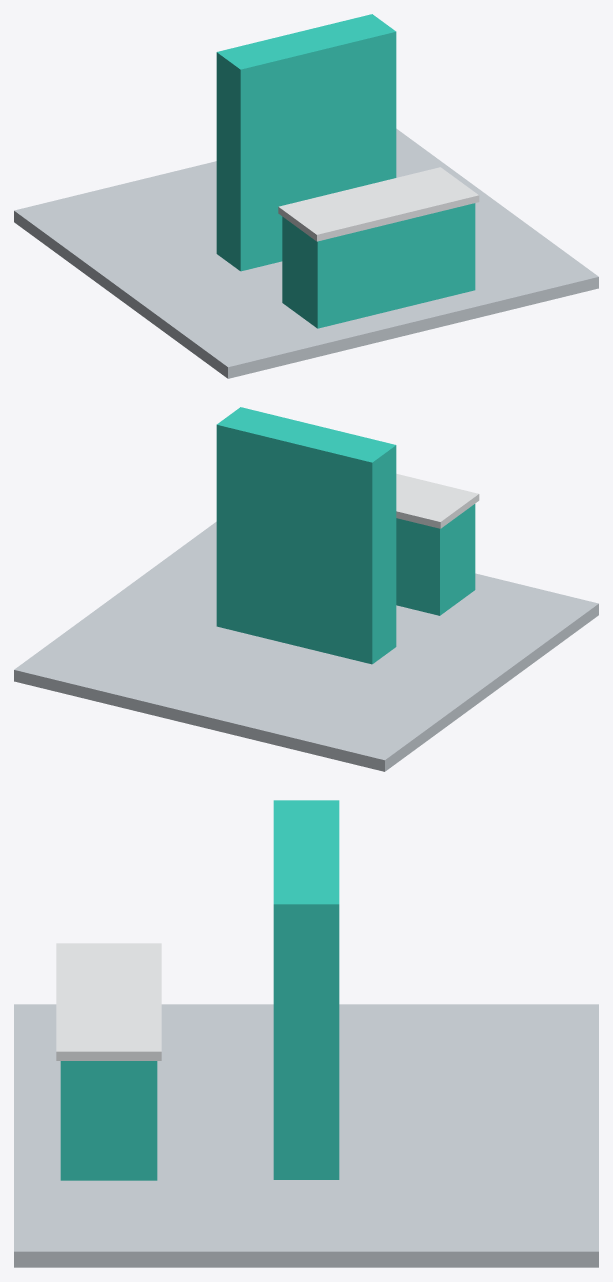
3 renders of one model, top to bottom at view 1: azimuth 30°, elevation 25°; view 2: azimuth 150°, elevation 25°; view 3: azimuth 270°, elevation 25°, orthographic. The views are drawn at different scales.
Visible parts, largest first — view 1: Exhibition Booth Concept; view 2: Exhibition Booth Concept; view 3: Exhibition Booth Concept.
Boxes of the visible parts, left/top/right/bottom form: Exhibition Booth Concept: left=14, top=14, right=598, bottom=378; Exhibition Booth Concept: left=14, top=407, right=598, bottom=771; Exhibition Booth Concept: left=14, top=800, right=598, bottom=1267.
Bounding box in the file's own units: 4 × 2.2 × 4.
